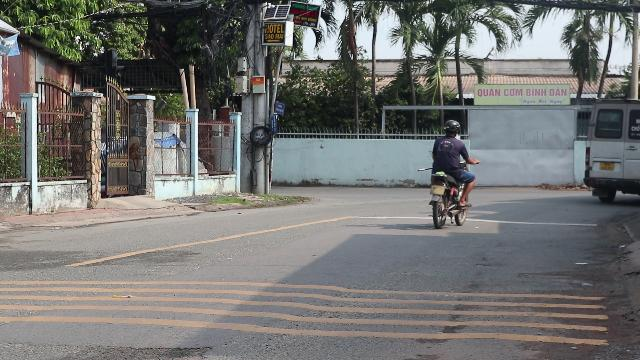helmet: (442, 120, 458, 136)
licenseplate: (430, 186, 444, 194)
motorcyclist: (425, 118, 475, 228)
